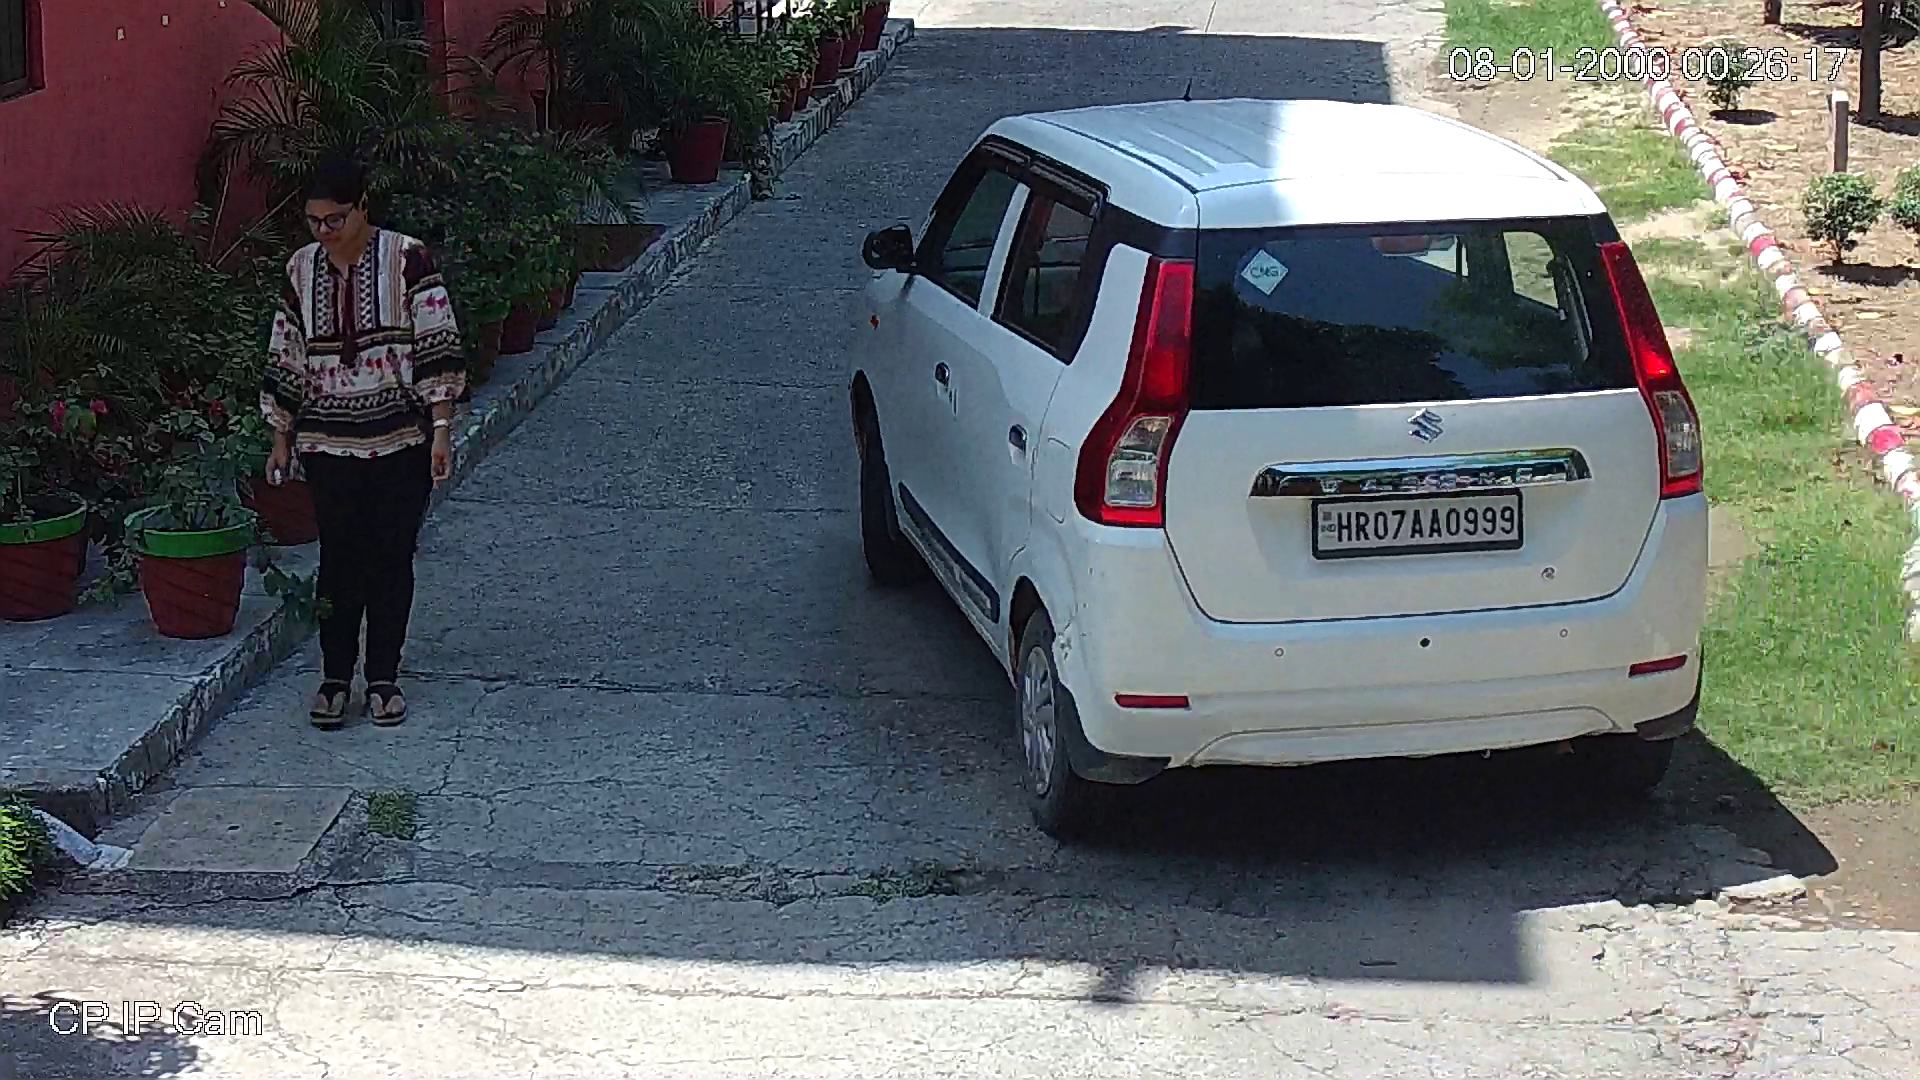plate: (1306, 483, 1529, 566)
